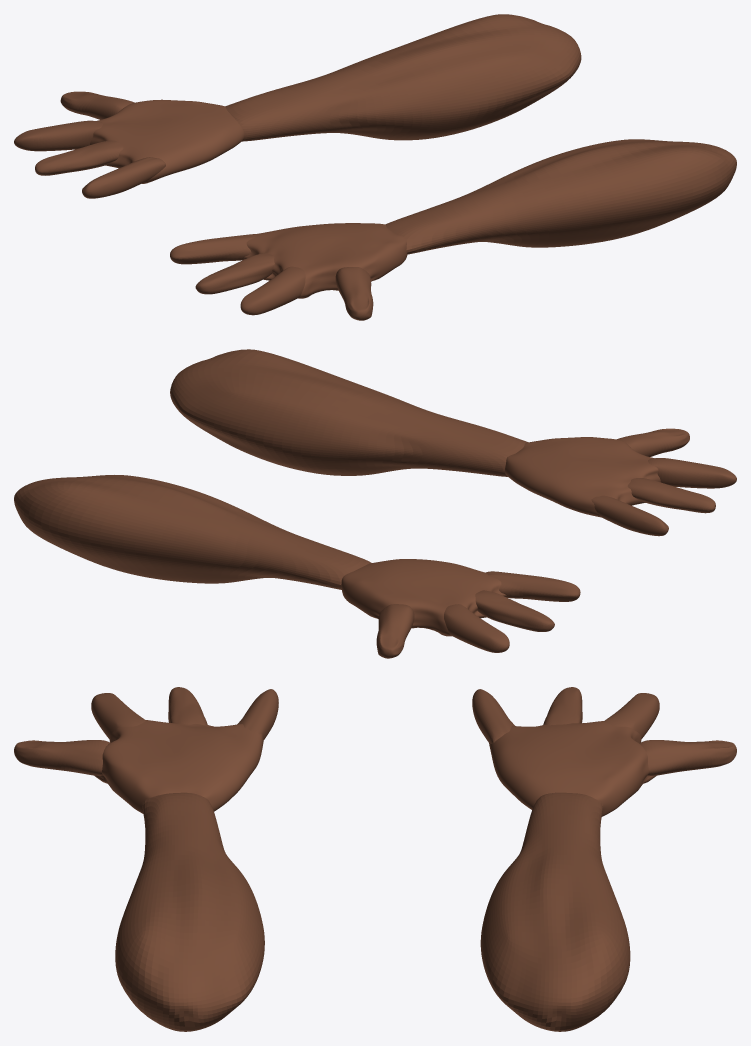
Rendered from hands.fbx.
3 views of the same model, one above another, from view 1: azimuth 30°, elevation 25°; view 2: azimuth 150°, elevation 25°; view 3: azimuth 270°, elevation 25° (orthographic). The views are drawn at different scales.
Visible parts, largest first — view 1: Cube.005, Cube, Cube.003, Cube.002, Cube.001, Cube.004; view 2: Cube.005, Cube, Cube.003, Cube.002, Cube.001, Cube.004; view 3: Cube.005, Cube, Cube.004, Cube.003, Cube.001, Cube.002.
Part boxes in pixels (<box>): Cube.005: <box>225,14,736,254</box>; Cube: <box>90,99,407,298</box>; Cube.003: <box>14,120,305,315</box>; Cube.002: <box>35,140,274,294</box>; Cube.001: <box>82,157,257,264</box>; Cube.004: <box>60,91,373,320</box>; Cube.005: <box>14,349,527,589</box>; Cube: <box>341,437,660,636</box>; Cube.003: <box>444,458,736,652</box>; Cube.002: <box>475,478,715,631</box>; Cube.001: <box>485,495,668,601</box>; Cube.004: <box>376,428,689,658</box>; Cube.005: <box>115,792,630,1031</box>; Cube: <box>94,720,656,816</box>; Cube.004: <box>14,740,736,775</box>; Cube.003: <box>91,693,659,738</box>; Cube.001: <box>237,689,514,743</box>; Cube.002: <box>168,687,582,725</box>.
Size of the model in its own units: 2154 by 328 by 2080.
